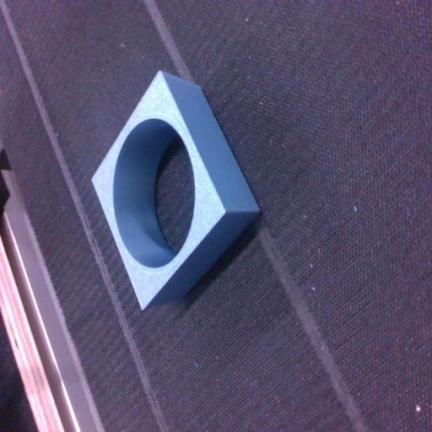hole: (92, 71, 258, 308)
